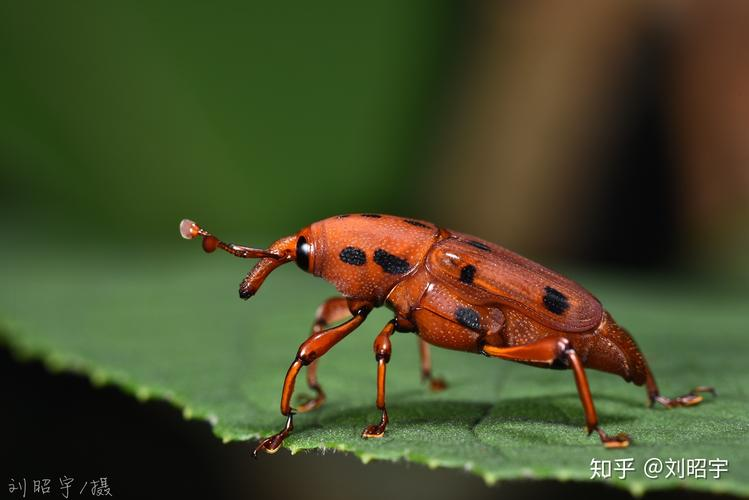Curculionidae: (178, 209, 718, 459)
